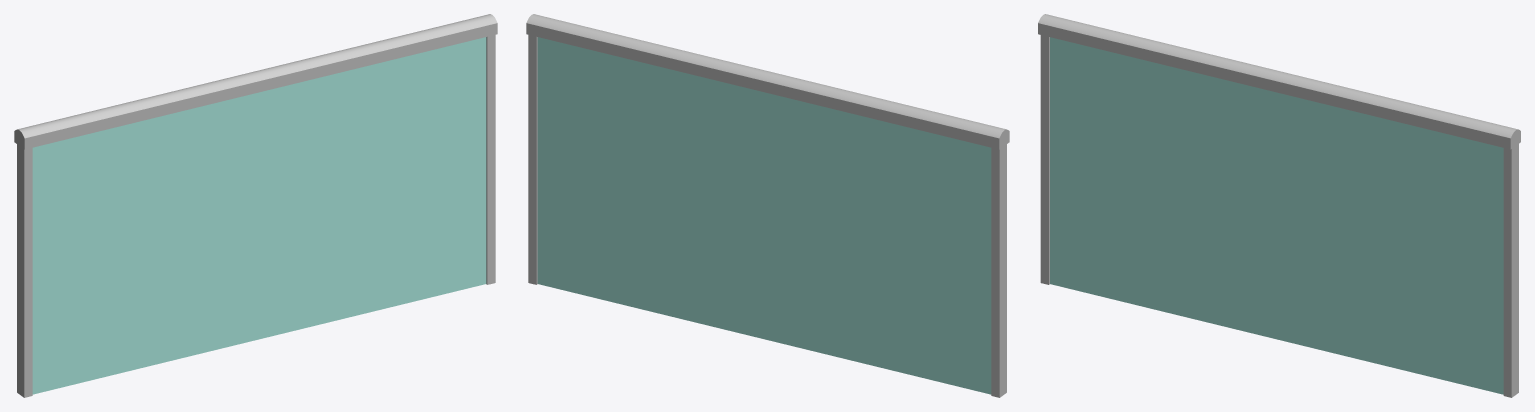
File: Railing_1Wide.fbx
3 views of the same model, side by side, from view 1: azimuth 30°, elevation 25°; view 2: azimuth 150°, elevation 25°; view 3: azimuth 330°, elevation 25° (orthographic).
Visible parts, largest first — view 1: Railing_1Wide; view 2: Railing_1Wide; view 3: Railing_1Wide.
Boxes of the visible parts, bbox=[...] form: Railing_1Wide: bbox=[14, 14, 497, 397]; Railing_1Wide: bbox=[526, 14, 1009, 397]; Railing_1Wide: bbox=[1038, 14, 1520, 397].
Size of the model in its own units: 2.55 by 1.37 by 0.0948.
